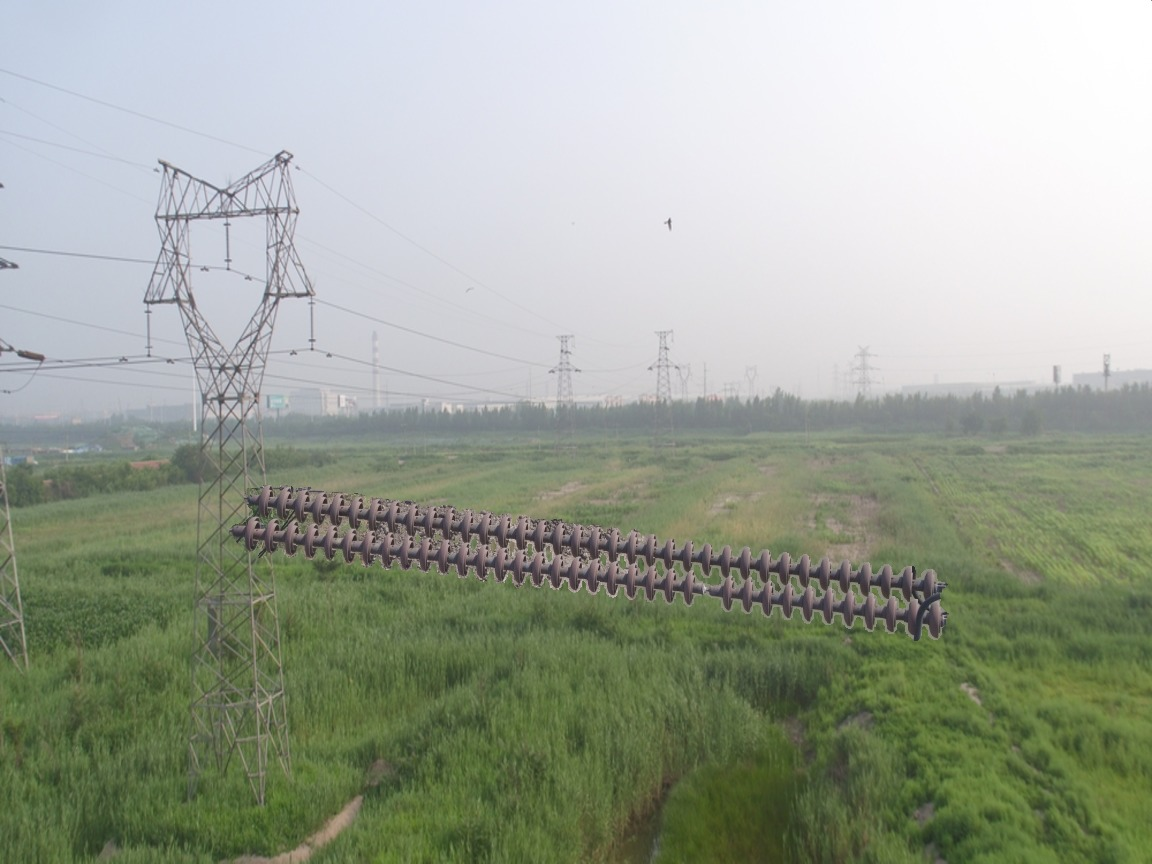defect: (673, 570, 741, 613)
